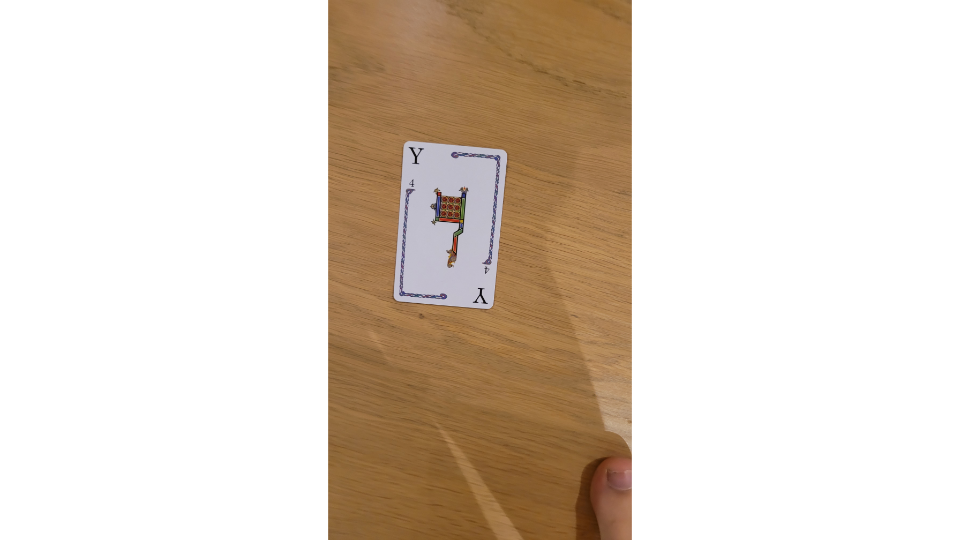Y: (390, 138, 511, 311)
